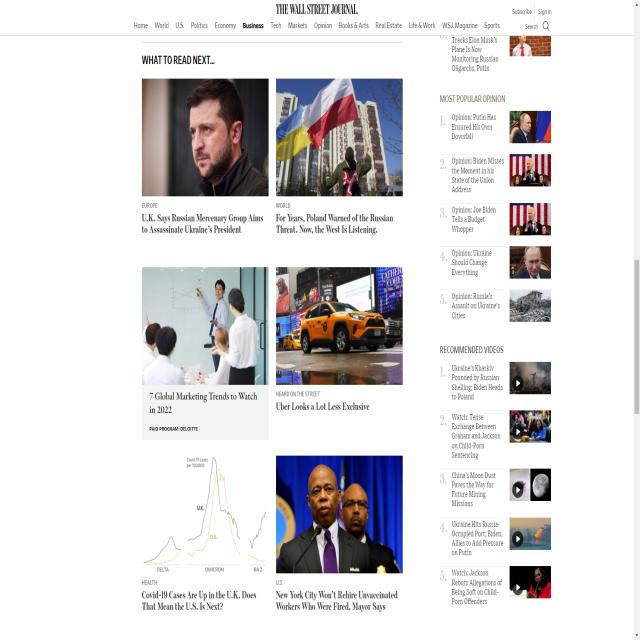menu-bar: (127, 14, 553, 34)
